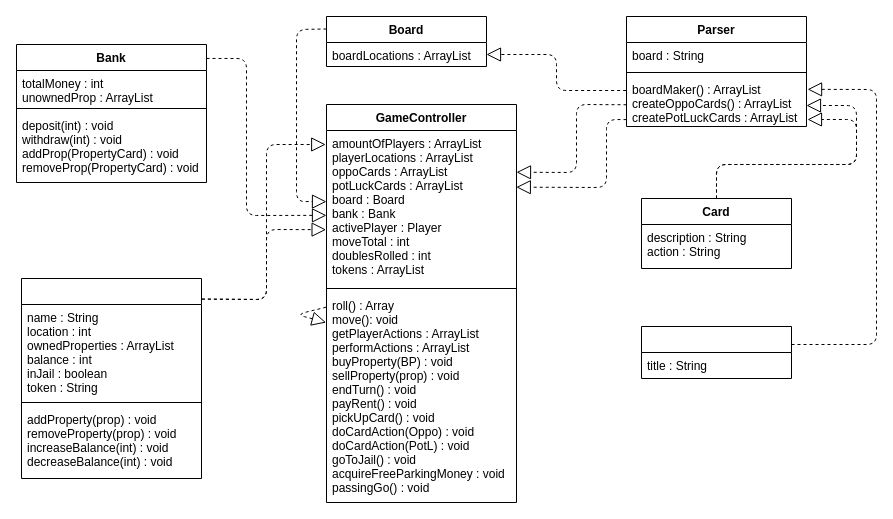
The diagram is 893 pixels wide and 519 high, and some of its shapes have lost their labels. The shapes that lost their labels are listed below. From the top down, each one's box as (x1, y1, x2, y2) in pixels, then its label:
(640, 326, 792, 378): BoardPiece
(20, 278, 202, 478): Player
